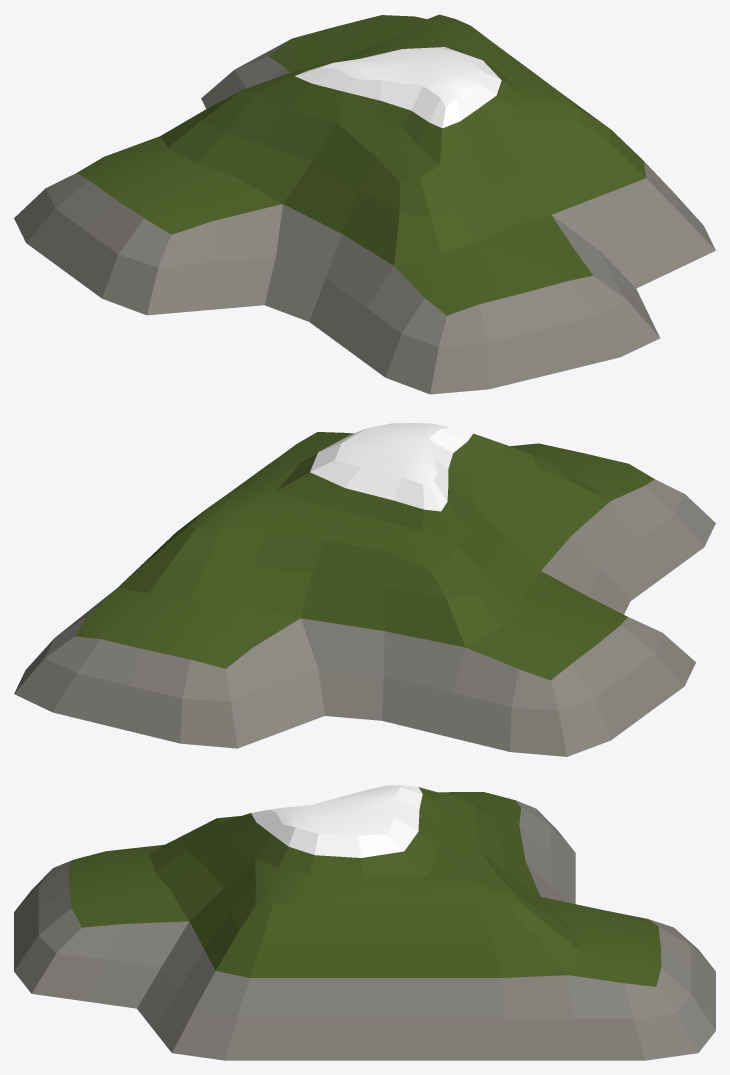
Rendered from Island10.FBX.
The picture shows the model from 3 angles, top to bottom: view 1: azimuth 30°, elevation 25°; view 2: azimuth 150°, elevation 25°; view 3: azimuth 270°, elevation 25°; orthographic projection. The views are drawn at different scales.
Visible parts, largest first — view 1: Plane001; view 2: Plane001; view 3: Plane001.
Boxes of the visible parts, left/top/right/bottom form: Plane001: left=14, top=14, right=715, bottom=394; Plane001: left=14, top=423, right=715, bottom=756; Plane001: left=14, top=785, right=715, bottom=1060.
Size of the model in its own units: 40 by 12.01 by 50.
